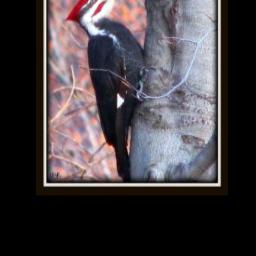Woodpecker: (64, 0, 156, 182)
